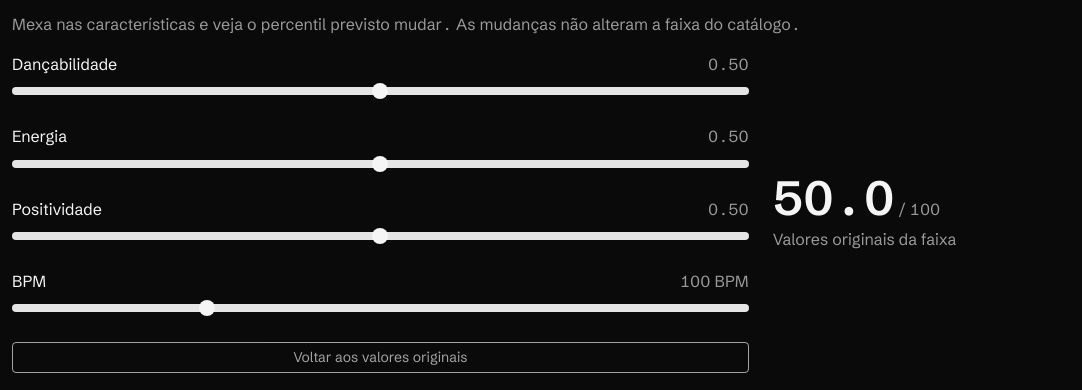
Scenario: WhatIfSimulator › recalcula na API ao mexer num slider e mostra a diferença para a faixa original
Check: the button "Voltar aos valores originais" is disabled, box 12,342 -> 749,373
Check: the text "Valores originais da faixa" is shown, box 773,229 -> 956,249
Set the slider labelled "Dançabilidade 0.50" to "0.9": coordinates (669, 91) 12,80 -> 749,102
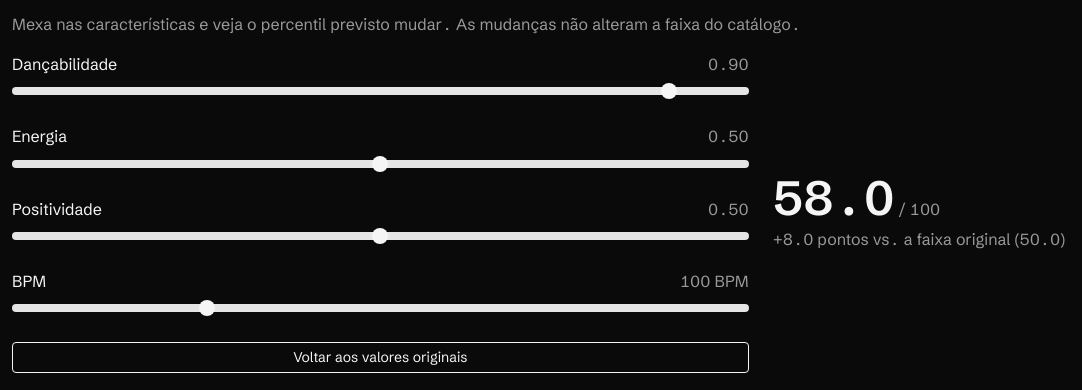
Check: the text "+8.0 pontos vs. a faixa original (50.0)" is shown, box 773,229 -> 1065,249
Check: the button "Voltar aos valores originais" is enabled, box 12,342 -> 749,373
